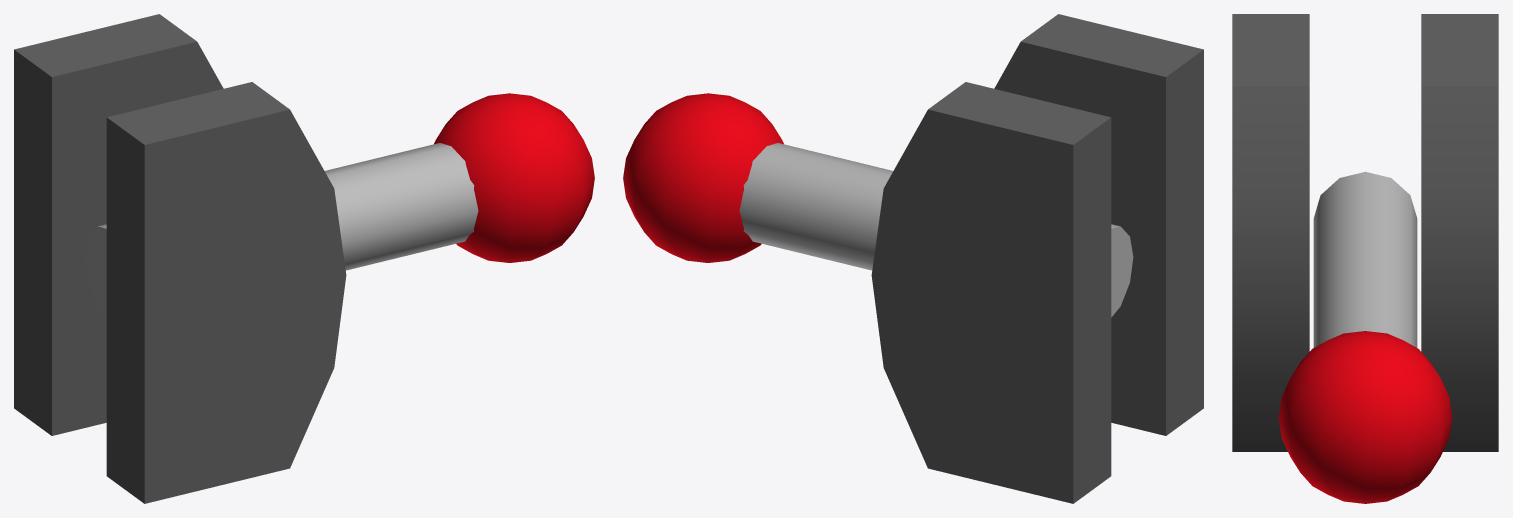
The model's file is Lever.fbx.
3 renders of one model, left to right at view 1: azimuth 30°, elevation 25°; view 2: azimuth 150°, elevation 25°; view 3: azimuth 270°, elevation 25°, orthographic.
Parts seen in each view (by area): view 1: Cube, Cylinder; view 2: Cube, Cylinder; view 3: Cube, Cylinder.
Boxes of the visible parts, bbox=[...] form: Cube: bbox=[14, 14, 346, 503]; Cylinder: bbox=[84, 93, 594, 317]; Cube: bbox=[871, 14, 1203, 503]; Cylinder: bbox=[623, 93, 1133, 317]; Cube: bbox=[1232, 14, 1498, 451]; Cylinder: bbox=[1278, 171, 1452, 503].
Size of the model in its own units: 51.42 by 34.98 by 23.06.
